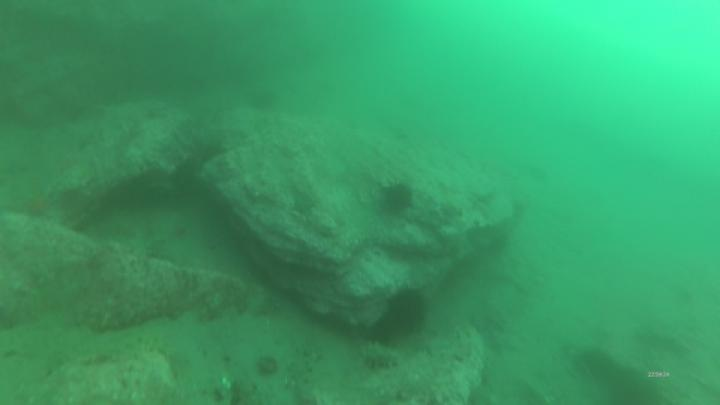echinus: (388, 288, 429, 328), (382, 183, 414, 210)
holothurian: (358, 340, 401, 368)
starfish: (22, 193, 52, 217)
